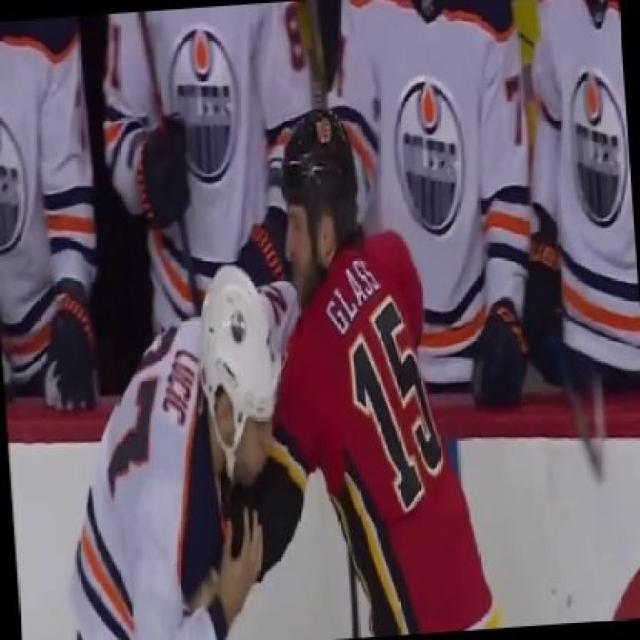fight: (1, 71, 542, 638)
